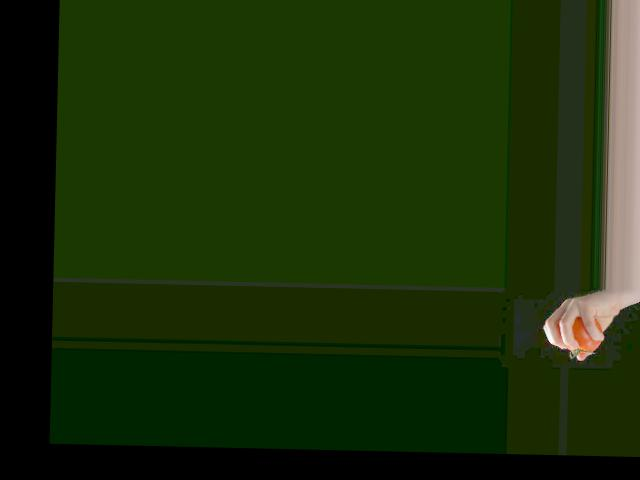tomato: (567, 314, 603, 351)
